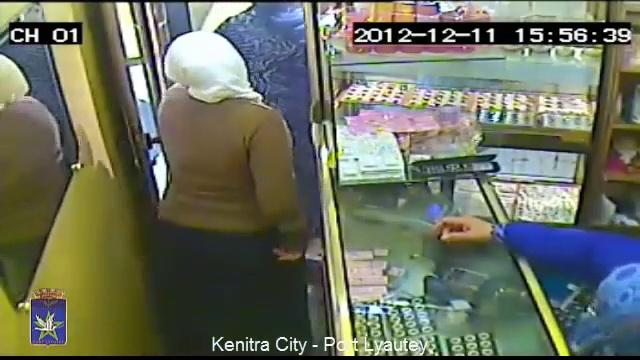Regular: (97, 34, 320, 308), (435, 148, 640, 360), (148, 0, 323, 115)
